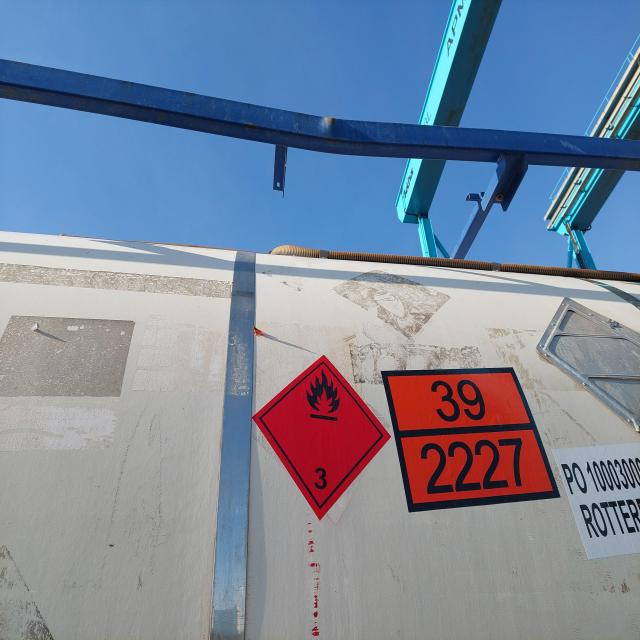dent: (63, 73, 516, 174)
